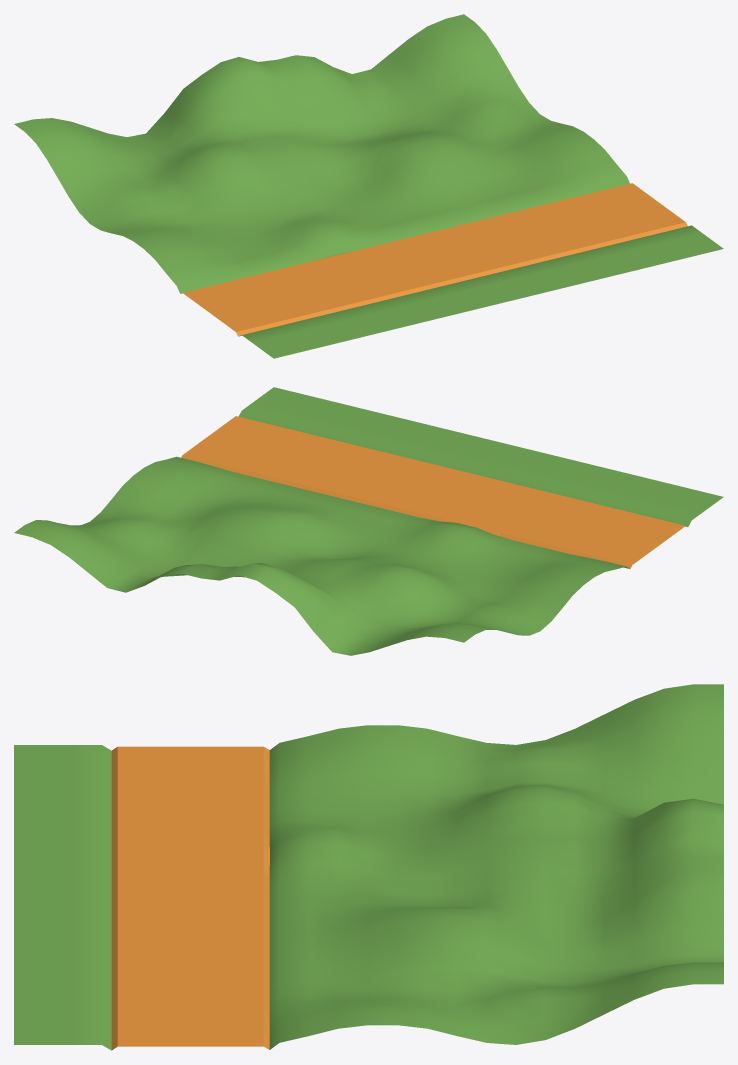
The model's file is goblins-ground.glb.
The picture shows the model from 3 angles, top to bottom: view 1: azimuth 30°, elevation 25°; view 2: azimuth 150°, elevation 25°; view 3: azimuth 270°, elevation 25°; orthographic projection. The views are drawn at different scales.
Parts seen in each view (by area): view 1: Ground, Path; view 2: Ground, Path; view 3: Ground, Path.
Part boxes in pixels (x1,y1,x2,y2): Ground: (14,14,723,358); Path: (181,183,687,336); Ground: (14,387,723,655); Path: (181,416,687,568); Ground: (14,684,723,1050); Path: (111,746,269,1050).
Bounding box in the file's own units: 20 × 2.74 × 20.
